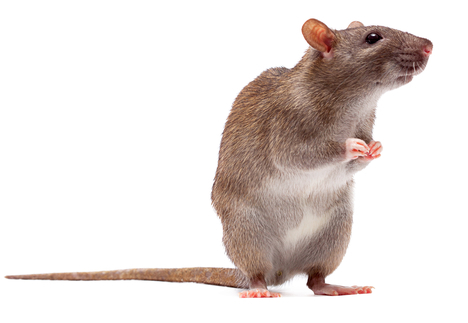rat: (123, 11, 439, 302)
